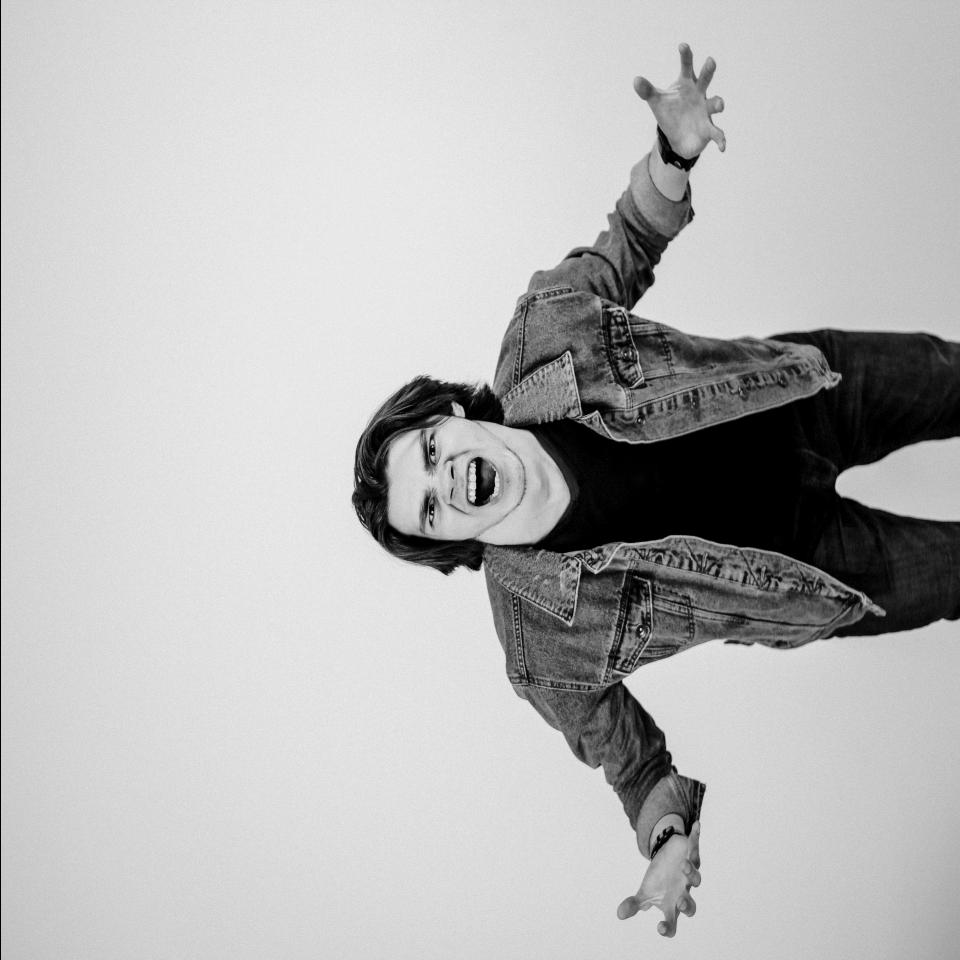Anger: (395, 420, 526, 566)
